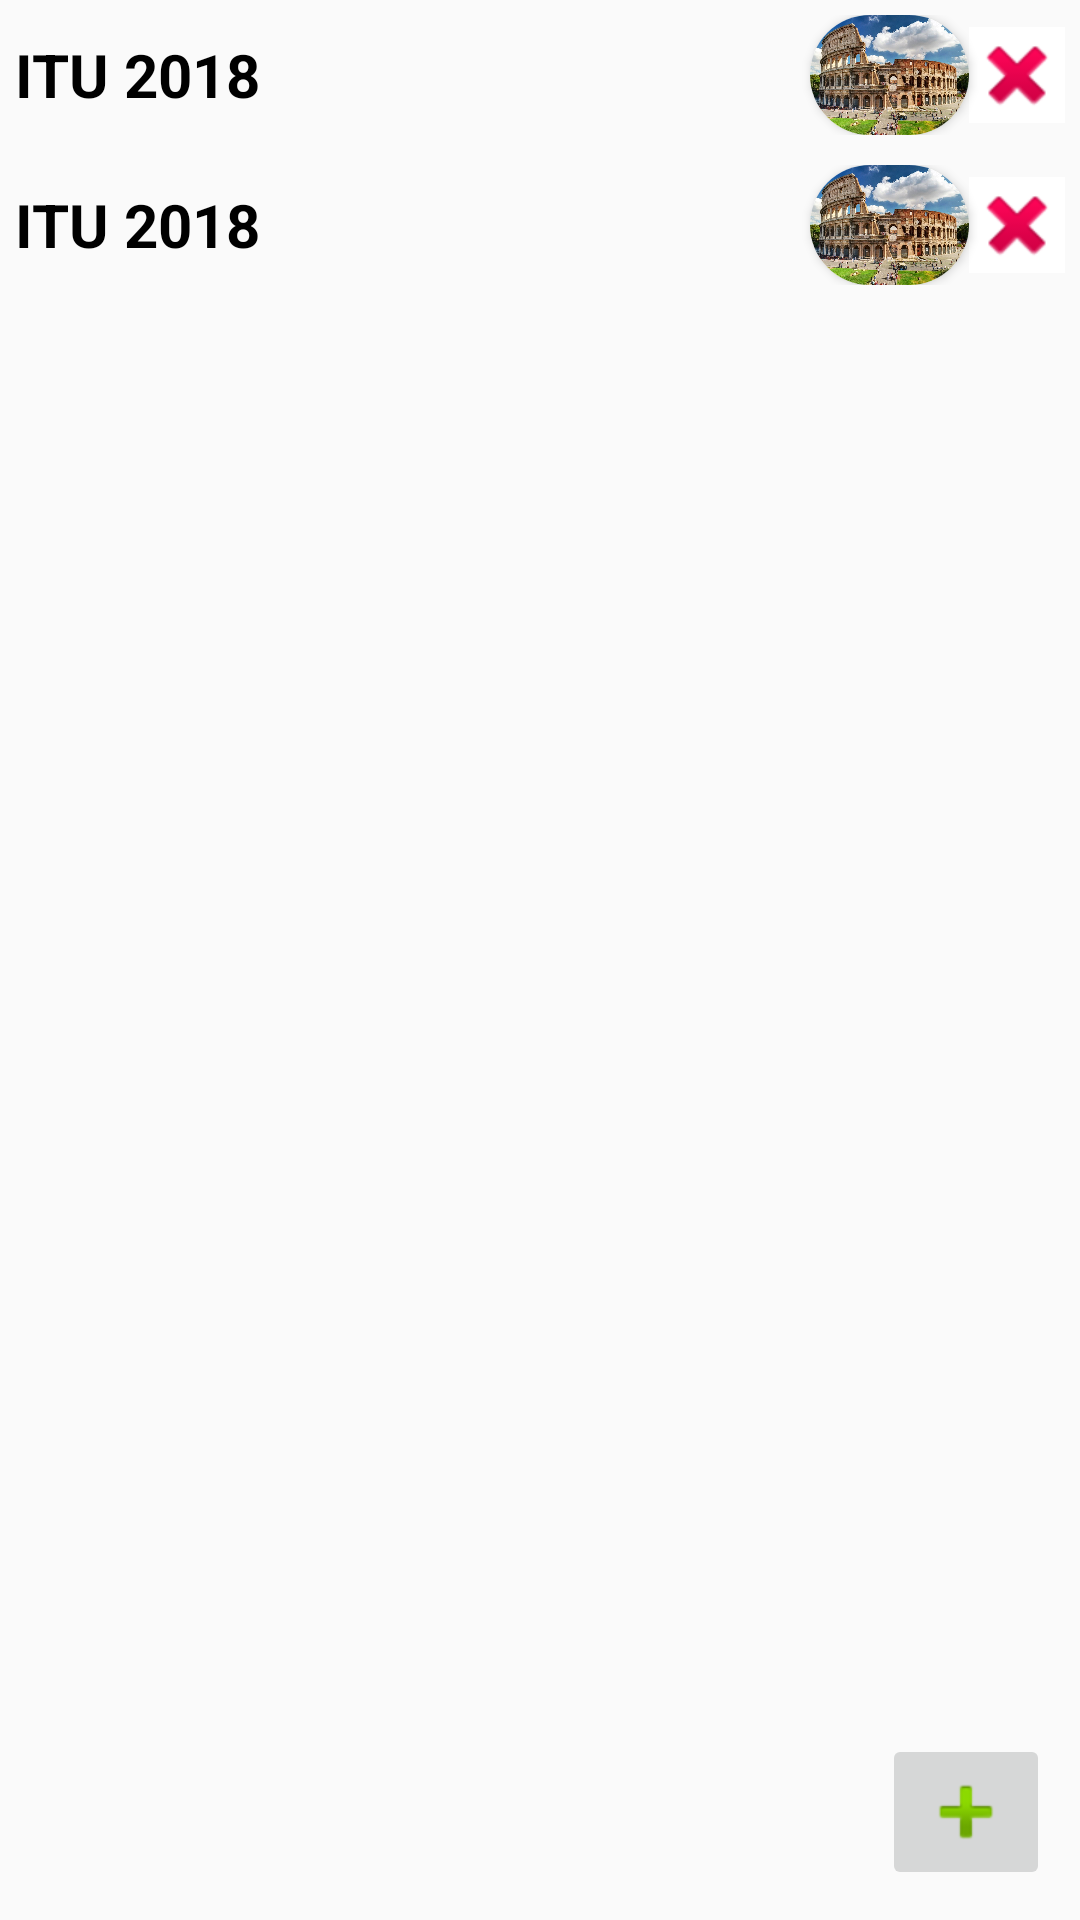

Icons on this 1080×1920 Android screen, each with the point to tap as [x,y]:
add: [966,1812]
coloseum: [889,75], [889,225]
delete: [1017,75], [1017,225]
